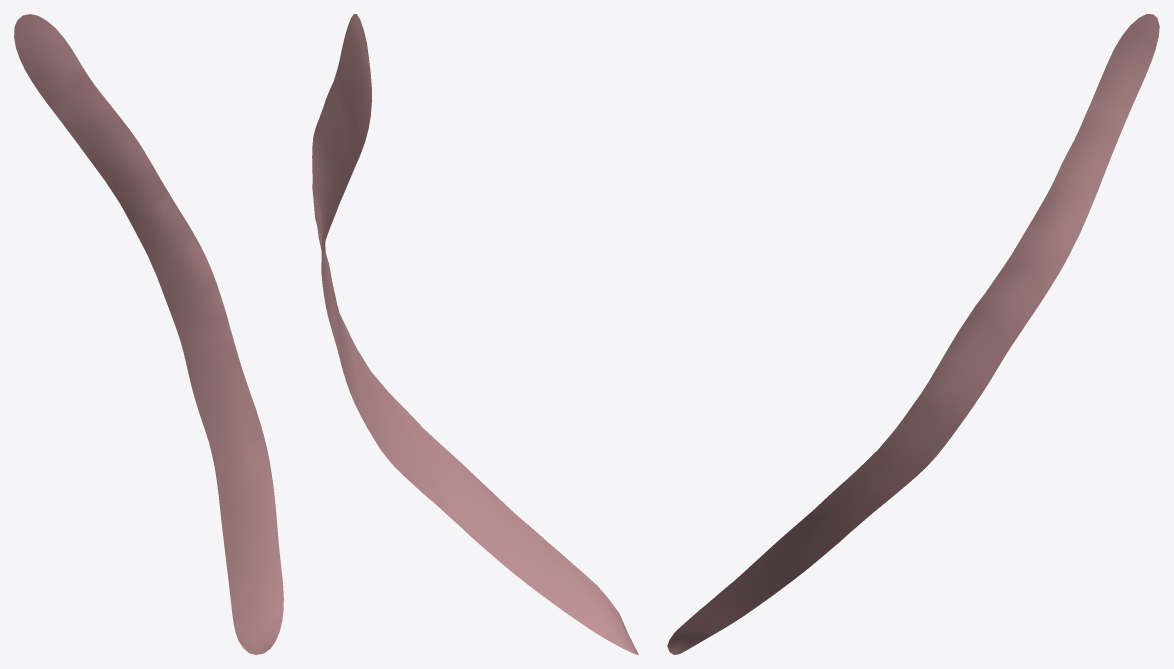
The model's file is fma75088-l_mm1606.glb.
The picture shows the model from 3 angles, left to right: view 1: azimuth 30°, elevation 25°; view 2: azimuth 150°, elevation 25°; view 3: azimuth 270°, elevation 25°; orthographic projection. The views are drawn at different scales.
Parts seen in each view (by area): view 1: FMA75088-L_MM1606; view 2: FMA75088-L_MM1606; view 3: FMA75088-L_MM1606.
Boxes of the visible parts, <box> form: FMA75088-L_MM1606: <box>14,14,283,654</box>; FMA75088-L_MM1606: <box>312,14,638,654</box>; FMA75088-L_MM1606: <box>667,14,1159,654</box>.
Bounding box in the file's own units: 0.00859 × 0.0361 × 0.026.
